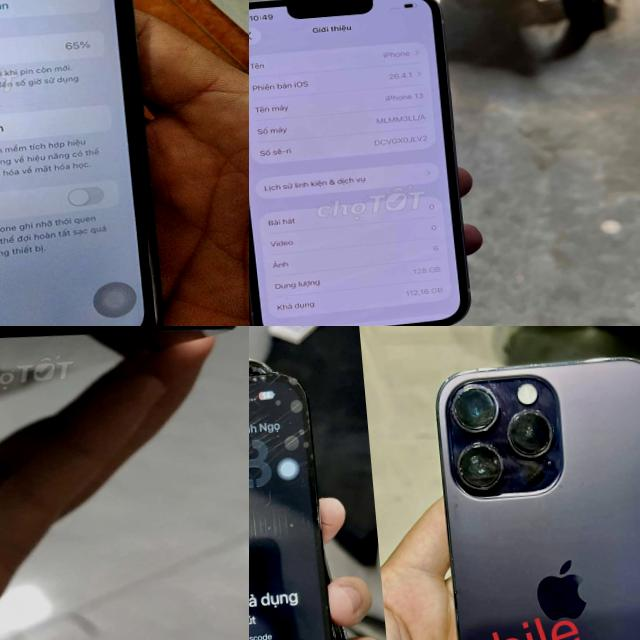gen_11: (431, 345, 640, 640), (0, 0, 181, 326), (249, 349, 390, 640)
gen_12_13: (249, 0, 492, 326)
physical_damage: (249, 364, 322, 487)
scratch: (447, 376, 552, 491)
